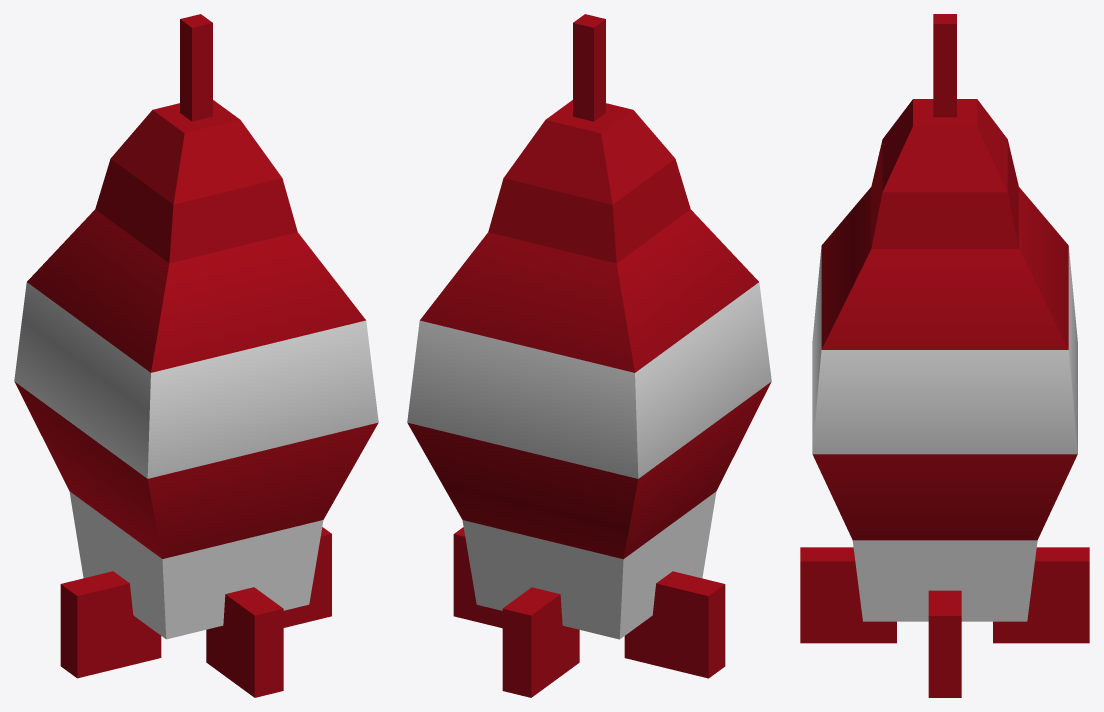
The model's file is Missile.fbx.
3 renders of one model, left to right at view 1: azimuth 30°, elevation 25°; view 2: azimuth 150°, elevation 25°; view 3: azimuth 270°, elevation 25°, orthographic.
Visible parts, largest first — view 1: Missile; view 2: Missile; view 3: Missile.
Part boxes in pixels (bbox=[...]): Missile: bbox=[14, 14, 378, 697]; Missile: bbox=[407, 14, 771, 697]; Missile: bbox=[800, 14, 1089, 697].
Size of the model in its own units: 143 by 333 by 141.
